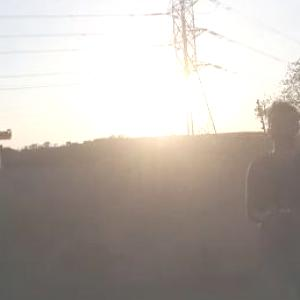follow: (232, 99, 299, 299)
